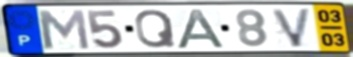5: (84, 9, 125, 50)
8: (234, 8, 271, 48)
A: (175, 8, 229, 50)
M: (34, 8, 93, 51)
Q: (133, 8, 178, 50)
V: (269, 6, 314, 49)
